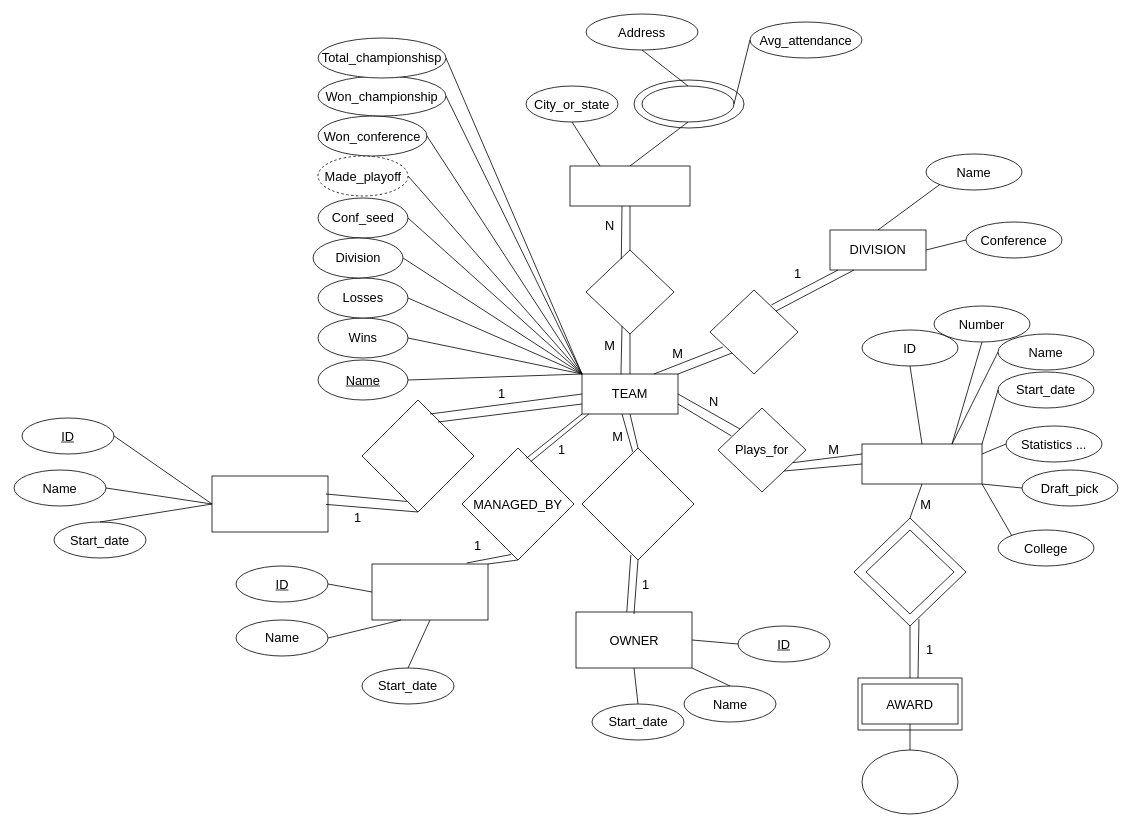
The diagram is 1132 pixels wide and 828 high, and some of its shapes have lost their labels. Here are the shapes that lost their labels. From the top down, the centre of each, then its label:
the point at 687,103: Stadium
the point at 629,185: HOME_LOCATION
the point at 629,291: Located_in
the point at 753,331: Competes_in
the point at 417,455: COACHED_BY
the point at 921,463: BEST_PLAYER
the point at 269,503: COACH
the point at 637,503: OWNED_BY
the point at 429,591: MANAGER
the point at 909,571: Receives
the point at 909,781: AwardName
